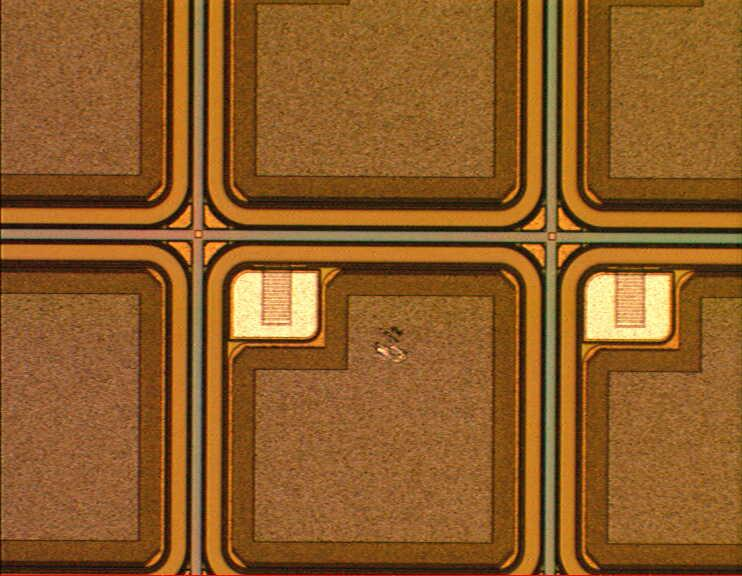SCRATCH: (362, 306, 417, 371)
